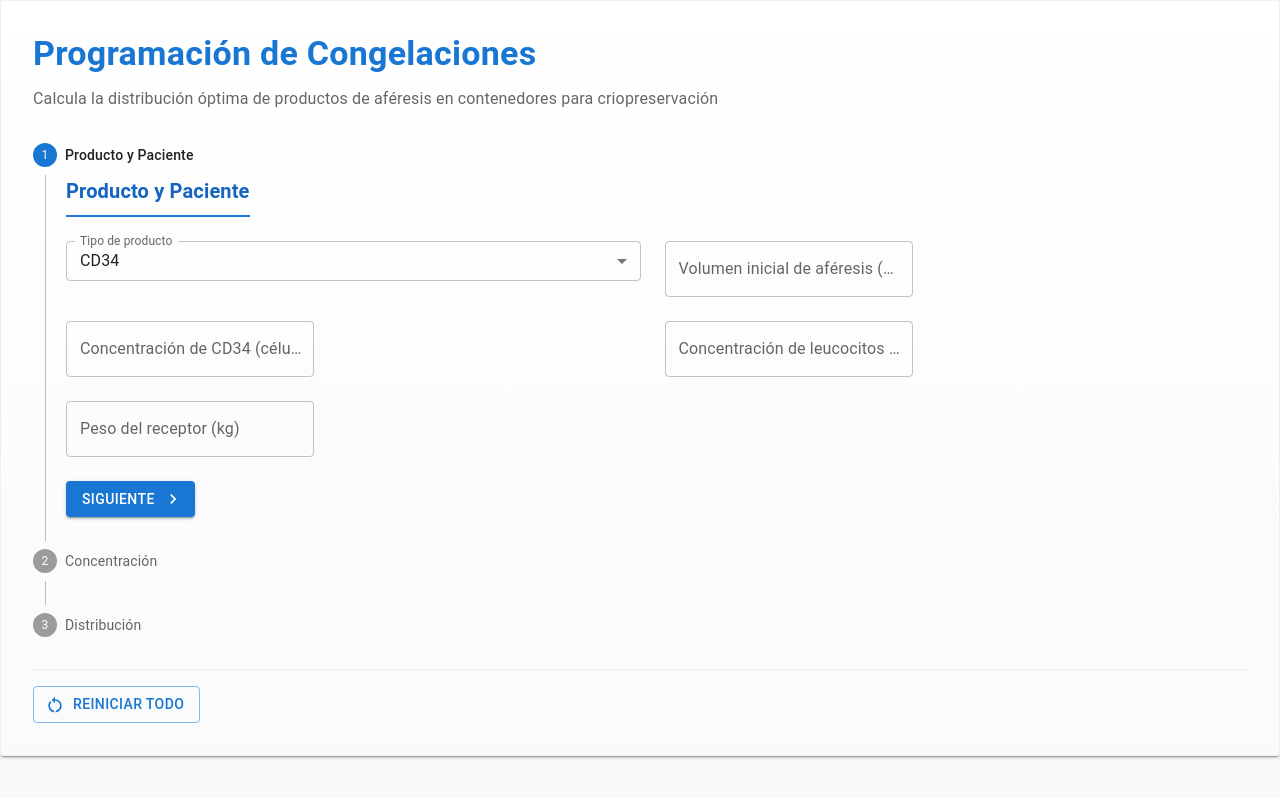
CryopreservationCalculator — dilución › mantiene el flujo de concentrar si no hace falta diluir
Type "100" into the number field labelled "Volumen inicial de aféresis (ml)" at (788, 269), box 664,241 -> 912,297
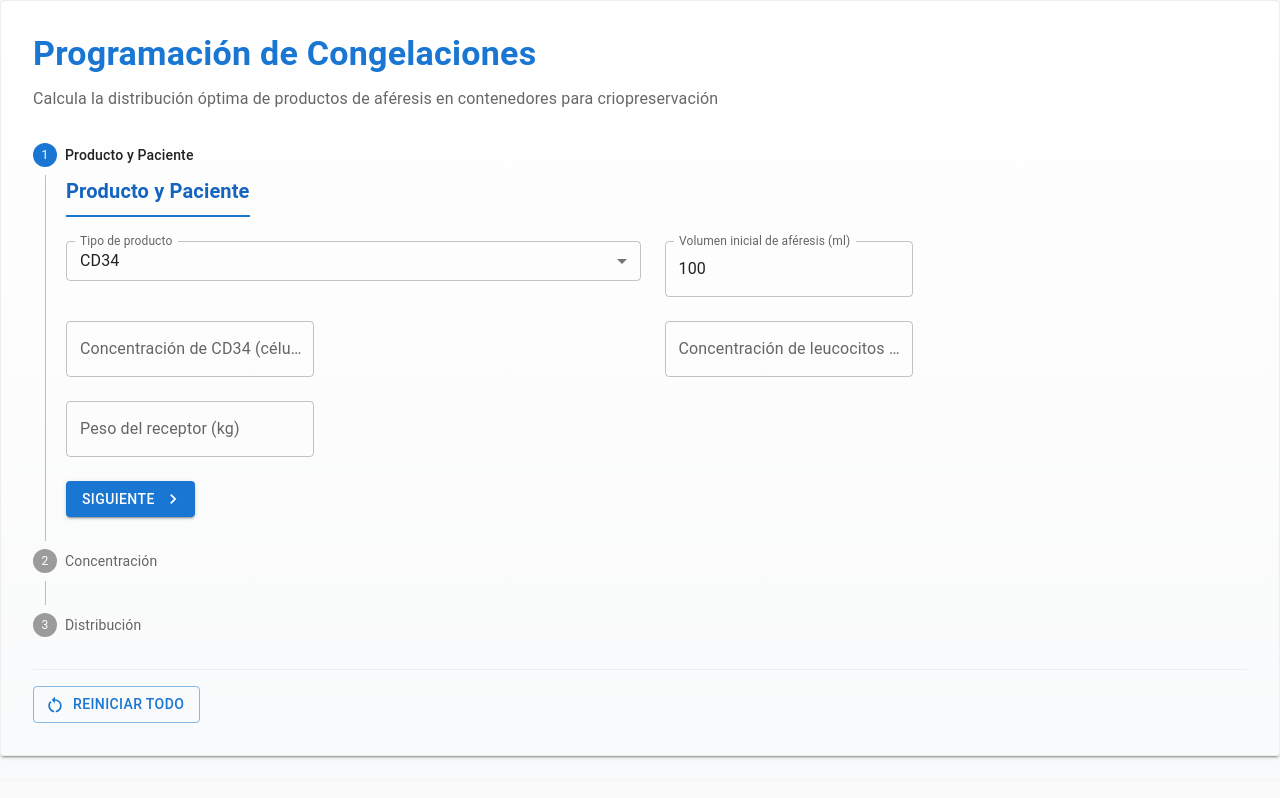
Type "1000" into the number field labelled "Concentración de CD34 (células/μL)" at (190, 349), box 66,321 -> 314,377
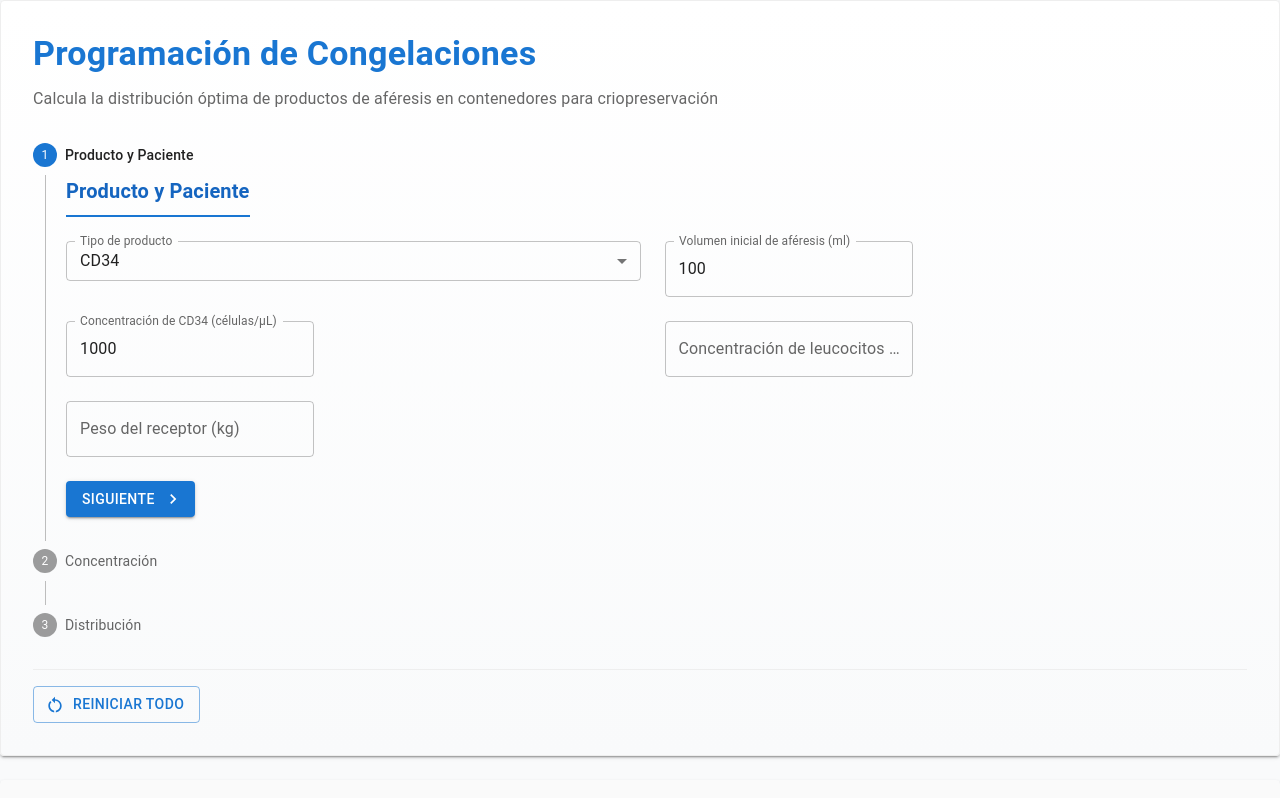
Type "100000" into the number field labelled "Concentración de leucocitos (células/mm³)" at (788, 349), box 664,321 -> 912,377
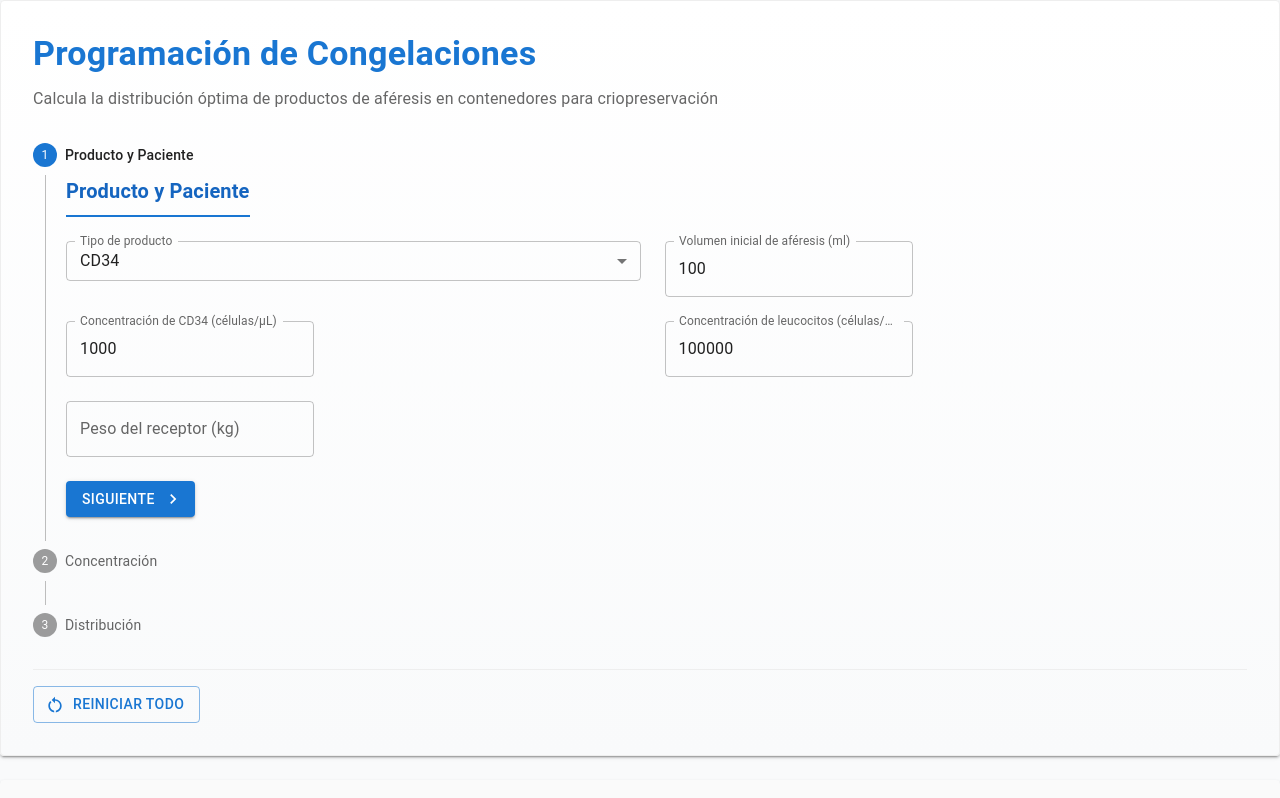
Type "70" into the number field labelled "Peso del receptor (kg)" at (190, 429), box 66,401 -> 314,457
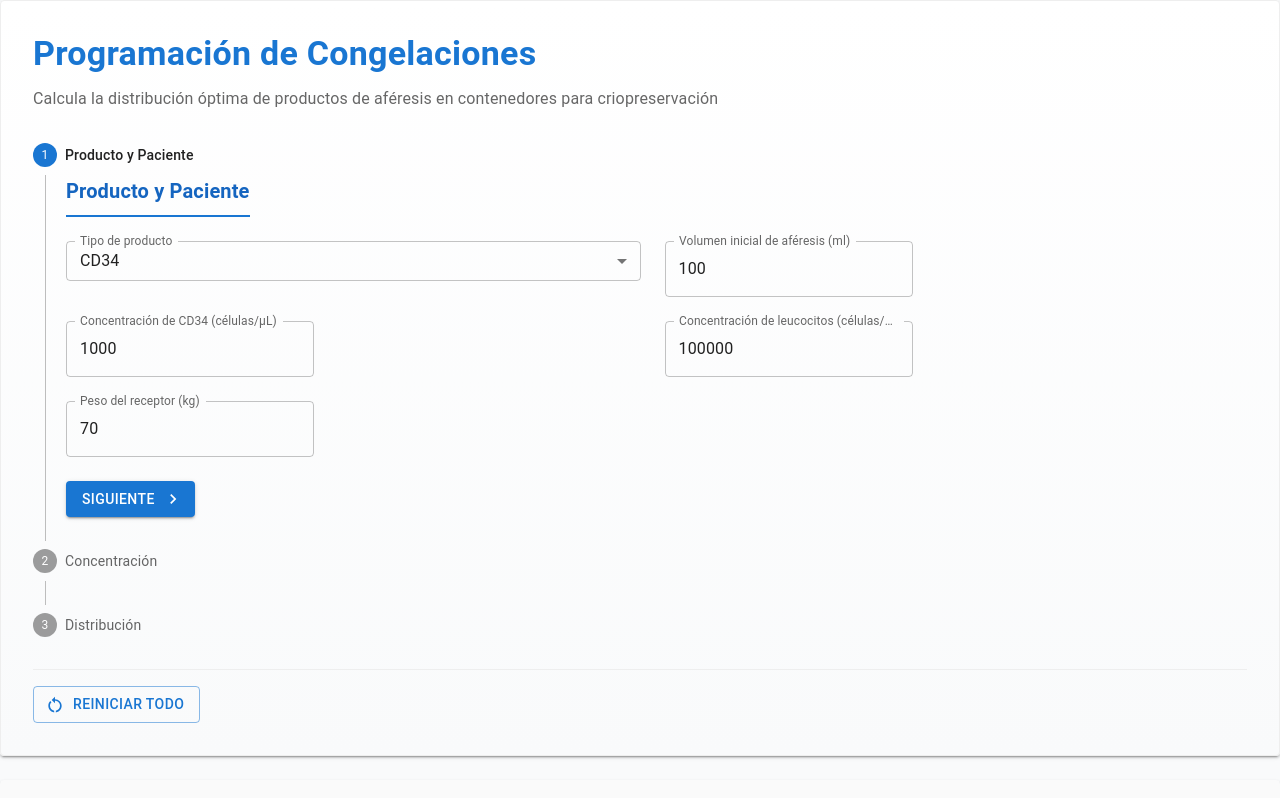
Click the button "Siguiente" at (130, 499), box 66,481 -> 195,517
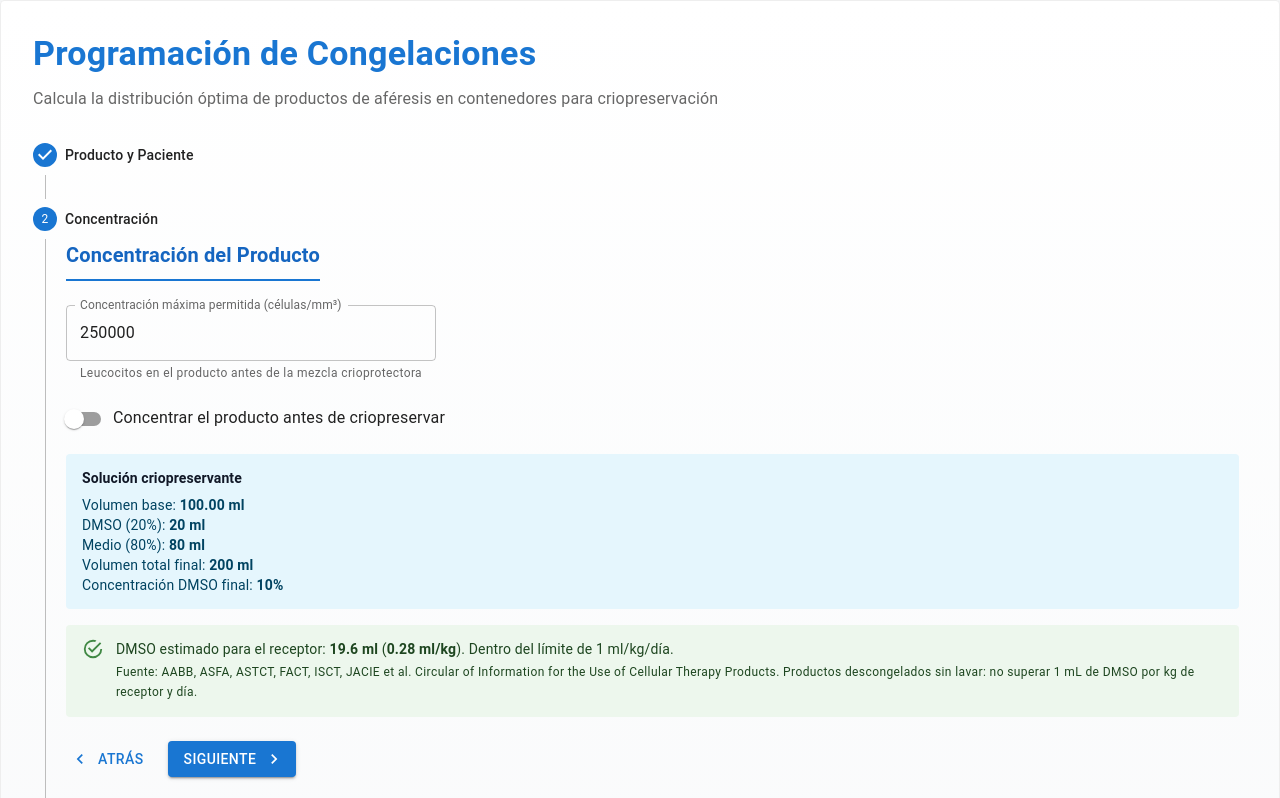
Check: the checkbox labelled "Concentrar el producto antes de criopreservar" is shown, box 64,408 -> 445,429
Check: the text "Dentro del límite de 1 ml/kg/día" is shown, box 469,641 -> 674,657
